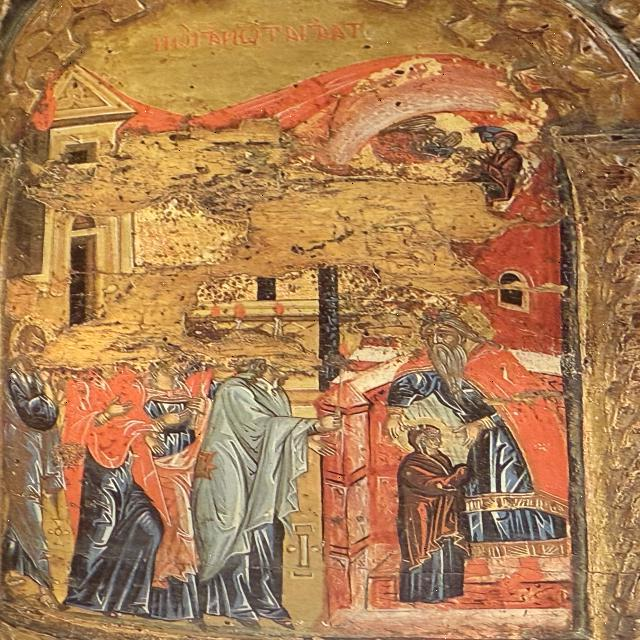angel: (379, 119, 482, 161)
aura: (402, 301, 505, 364), (392, 418, 454, 458)
saint: (412, 300, 578, 586), (385, 419, 479, 600)
wing: (379, 117, 439, 134), (443, 132, 465, 150)
